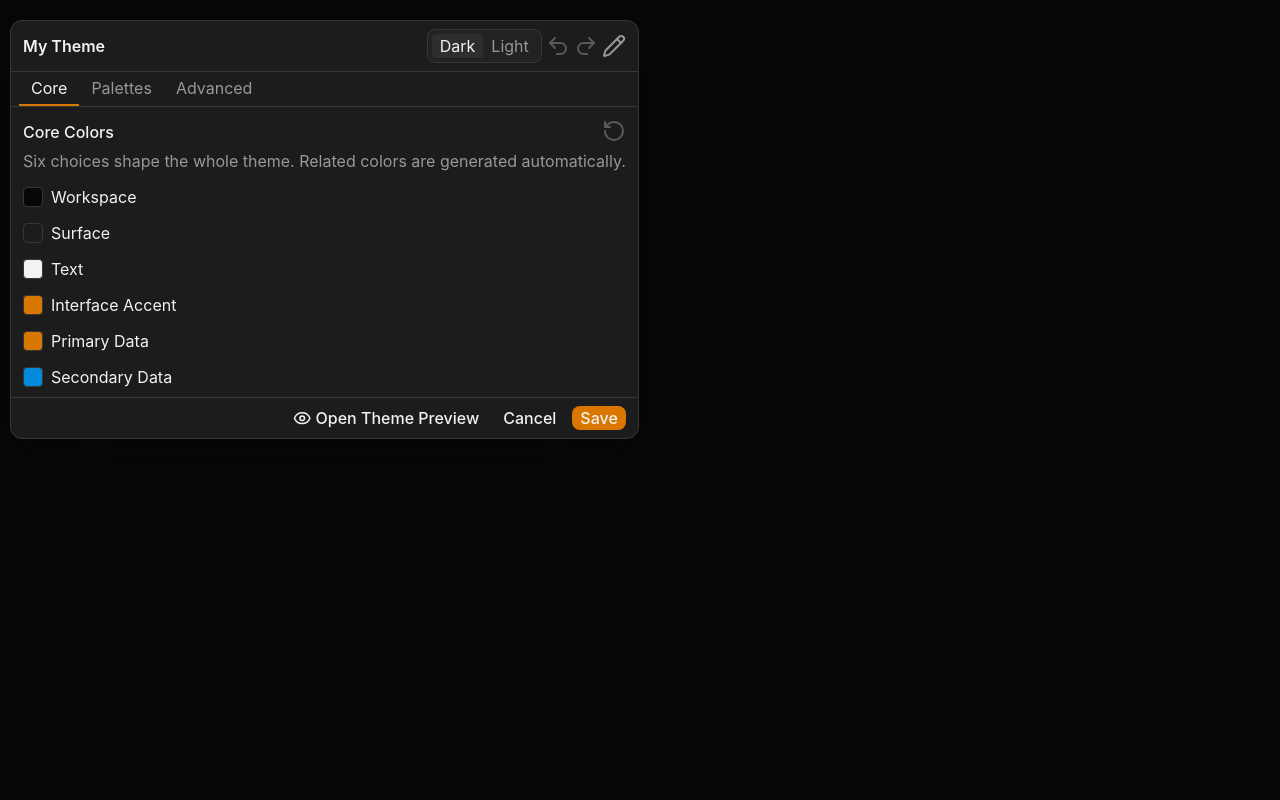
Test: ThemeEditor › shows stale preset provenance as Custom when the stops no longer match
Click the tab "Palettes" at (122,89), box [79,72,164,106]
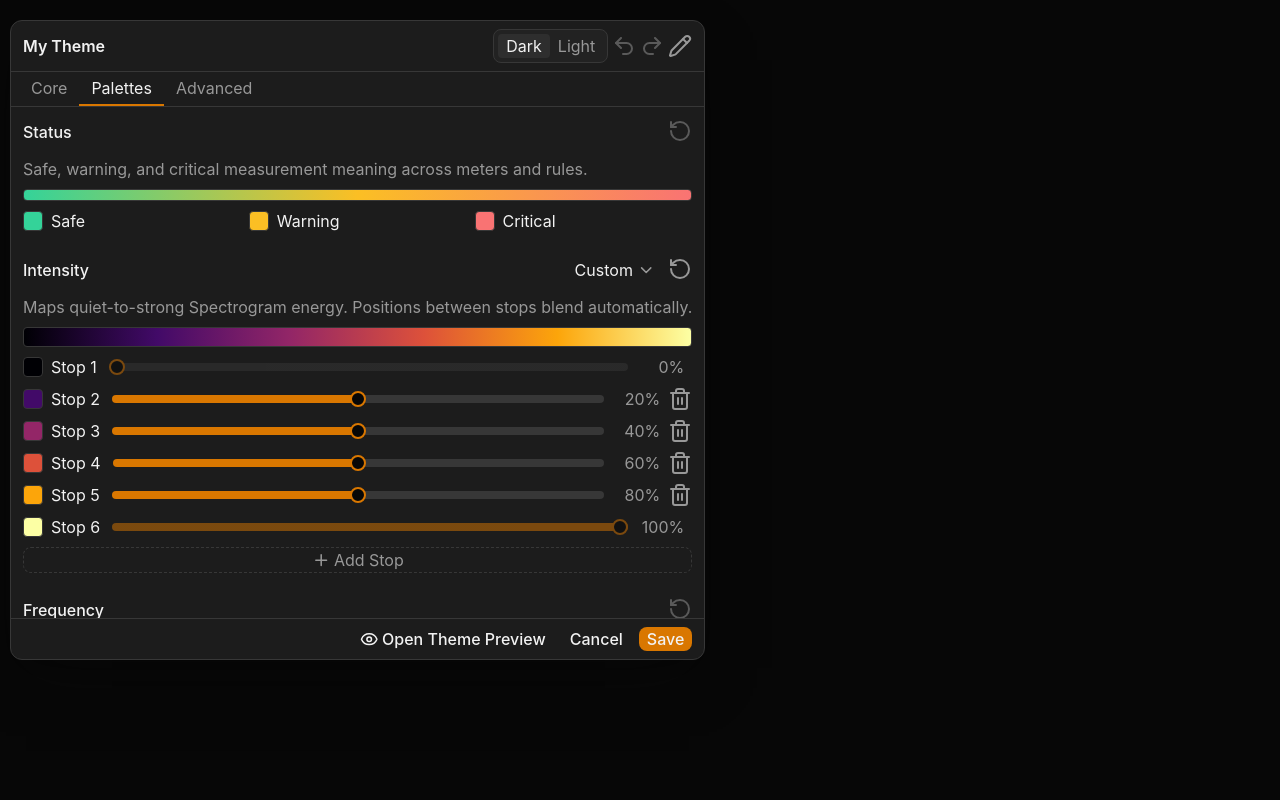
Check: the dropdown named "intensity palette preset" reads "Custom", box [566,257,664,283]
